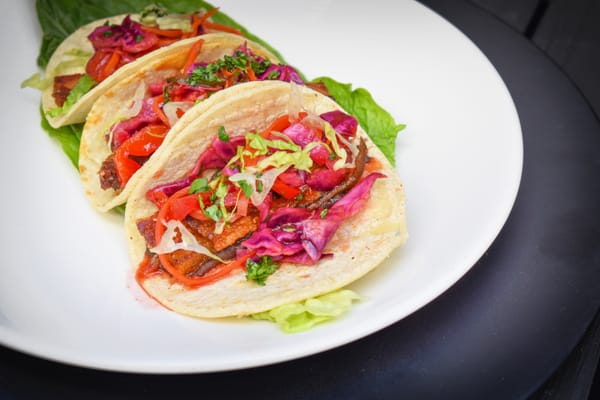soup: (121, 79, 409, 323)
